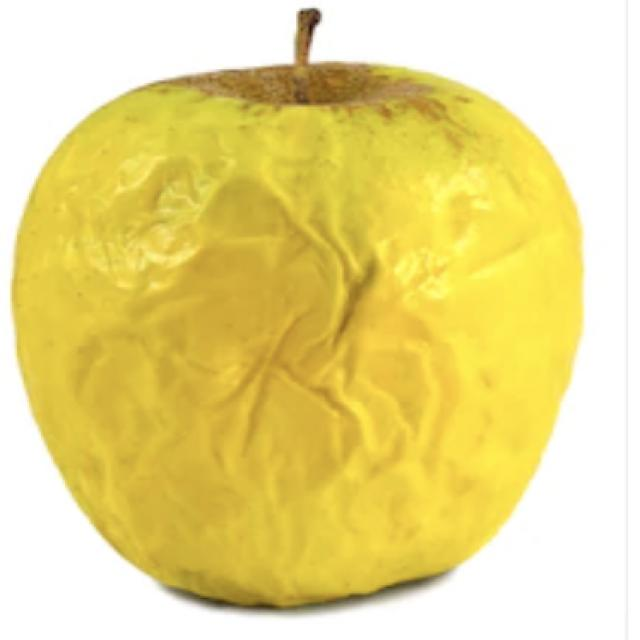rotten_apple: (13, 22, 585, 608)
